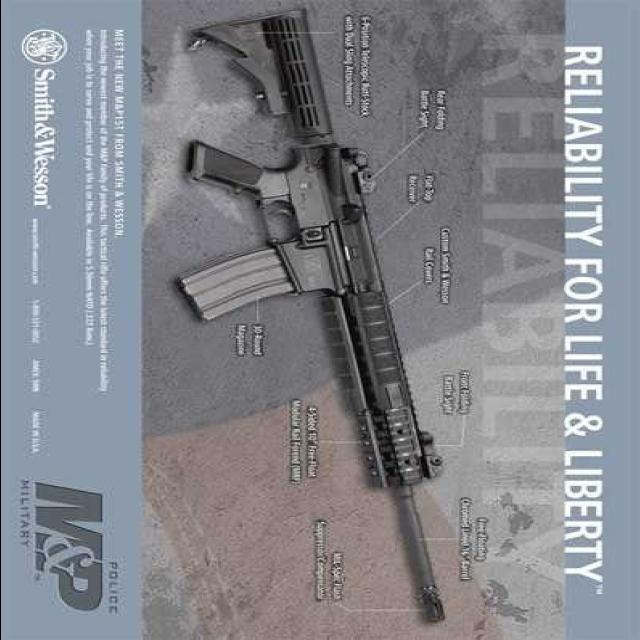heavyweapon: (186, 1, 488, 611)
